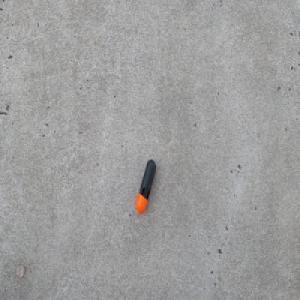PlasticPart: (135, 158, 156, 214)
